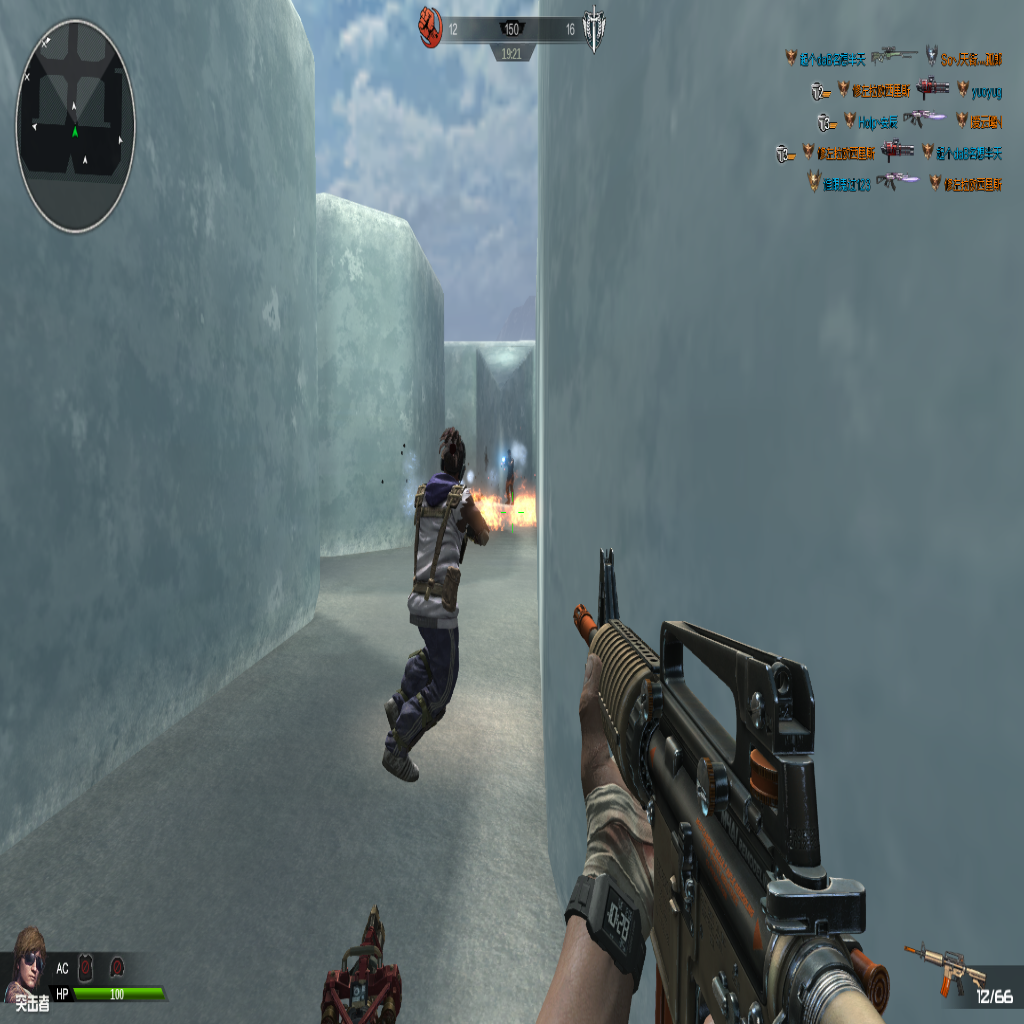tt: (373, 424, 496, 791)
